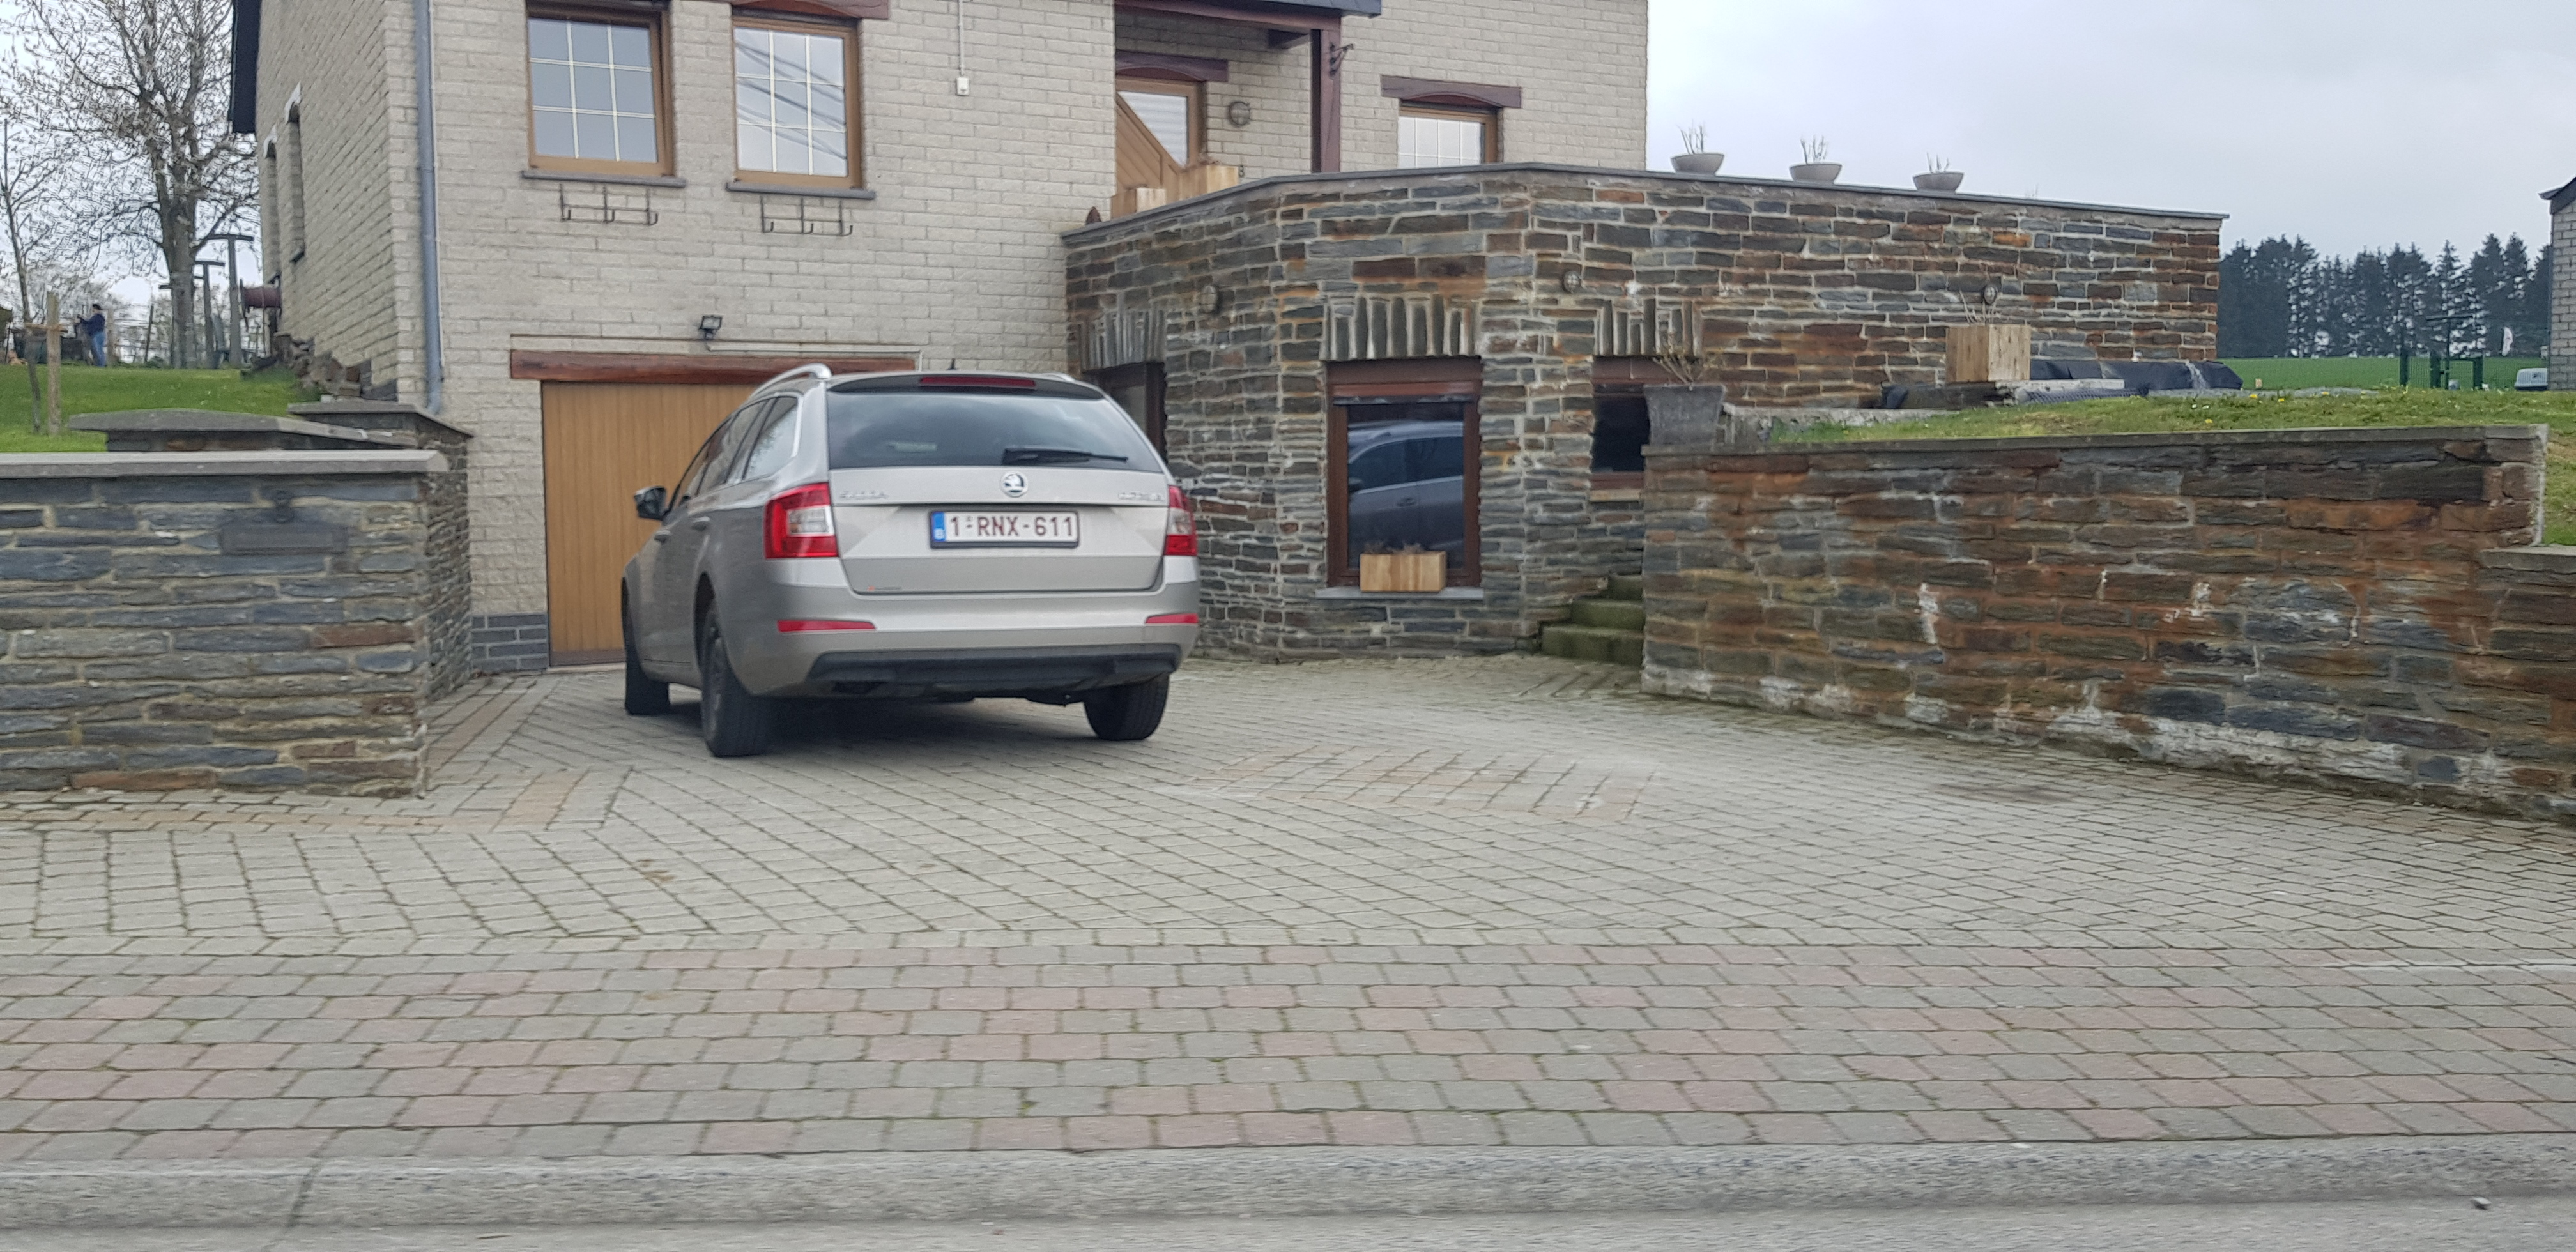licenceplate: (926, 508, 1080, 544)
